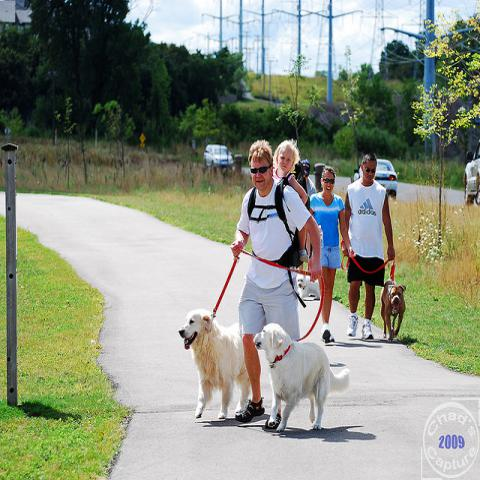car: (353, 158, 398, 197), (463, 139, 479, 206), (204, 144, 233, 167)
